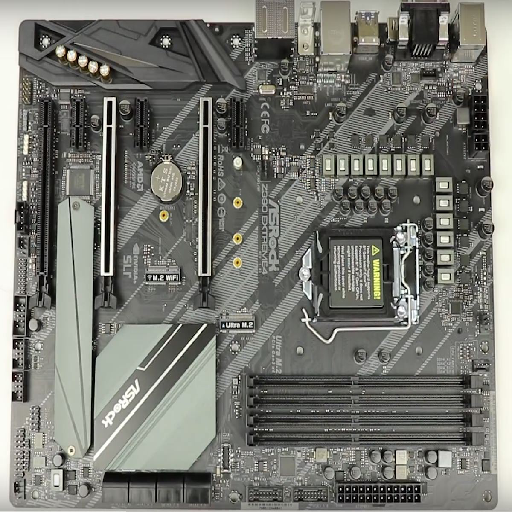CPU: (300, 223, 417, 323)
GPU: (191, 94, 218, 312), (94, 96, 120, 310)
MOTHERBOARD: (9, 16, 499, 511)
RAM: (237, 372, 487, 450)
SSD: (143, 259, 186, 290), (219, 311, 258, 335)
